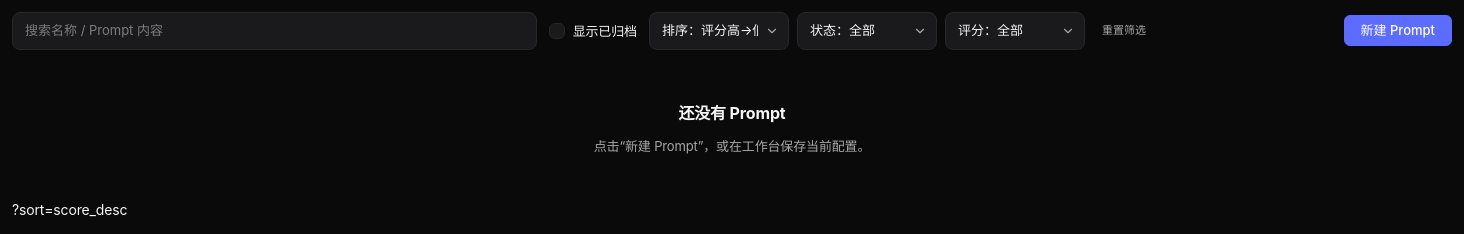
Prompt URL 筛选 › 排序切回最近更新时从 URL 与请求中移除默认 sort
The width and height of the screenshot is (1464, 234).
Select "排序：最近更新" in the dropdown named "Prompt 排序": [719, 31] box [649,12,789,50]
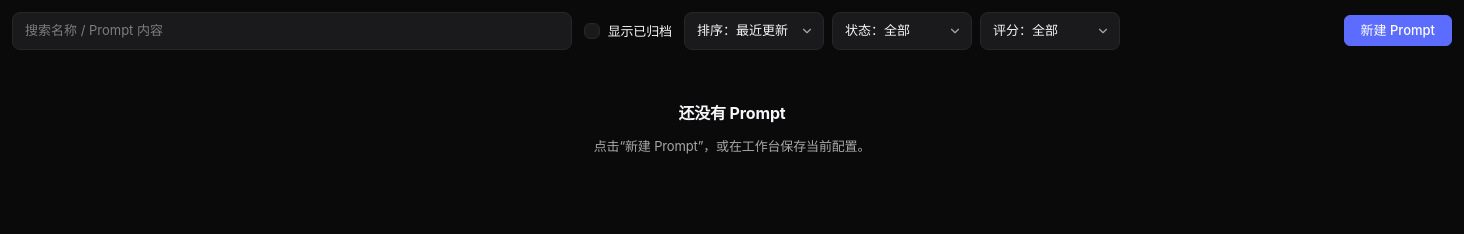
Check: the text with test id "location-search" no longer shows "sort="
